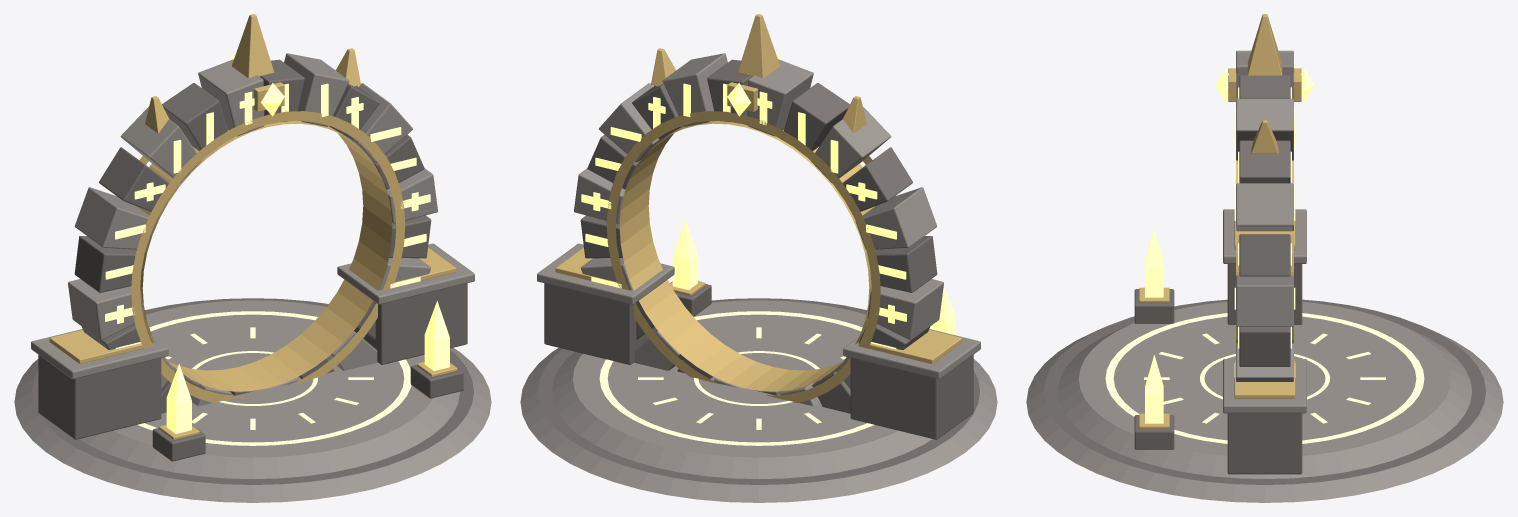
File: expedition_gate.glb
3 renders of one model, left to right at view 1: azimuth 30°, elevation 25°; view 2: azimuth 150°, elevation 25°; view 3: azimuth 270°, elevation 25°, orthographic.
Visible parts, largest first — view 1: Gate_Stone, Gate_Gold, Gate_Rune; view 2: Gate_Stone, Gate_Gold, Gate_Rune; view 3: Gate_Stone, Gate_Rune, Gate_Gold.
Part boxes in pixels (x1,y1,x2,y2): Gate_Stone: [14, 53, 491, 502]; Gate_Gold: [49, 14, 457, 440]; Gate_Rune: [105, 54, 449, 445]; Gate_Stone: [520, 53, 997, 502]; Gate_Gold: [555, 14, 962, 403]; Gate_Rune: [581, 54, 955, 445]; Gate_Stone: [1026, 50, 1503, 502]; Gate_Rune: [1105, 62, 1424, 443]; Gate_Gold: [1139, 14, 1301, 428].
Bounding box in the file's own units: 4.1 × 3.9 × 4.1.
